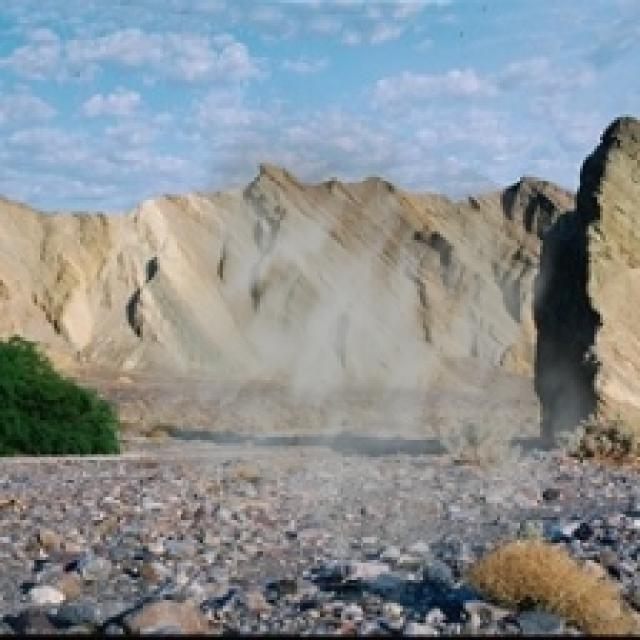Smoke: (111, 74, 628, 606)
